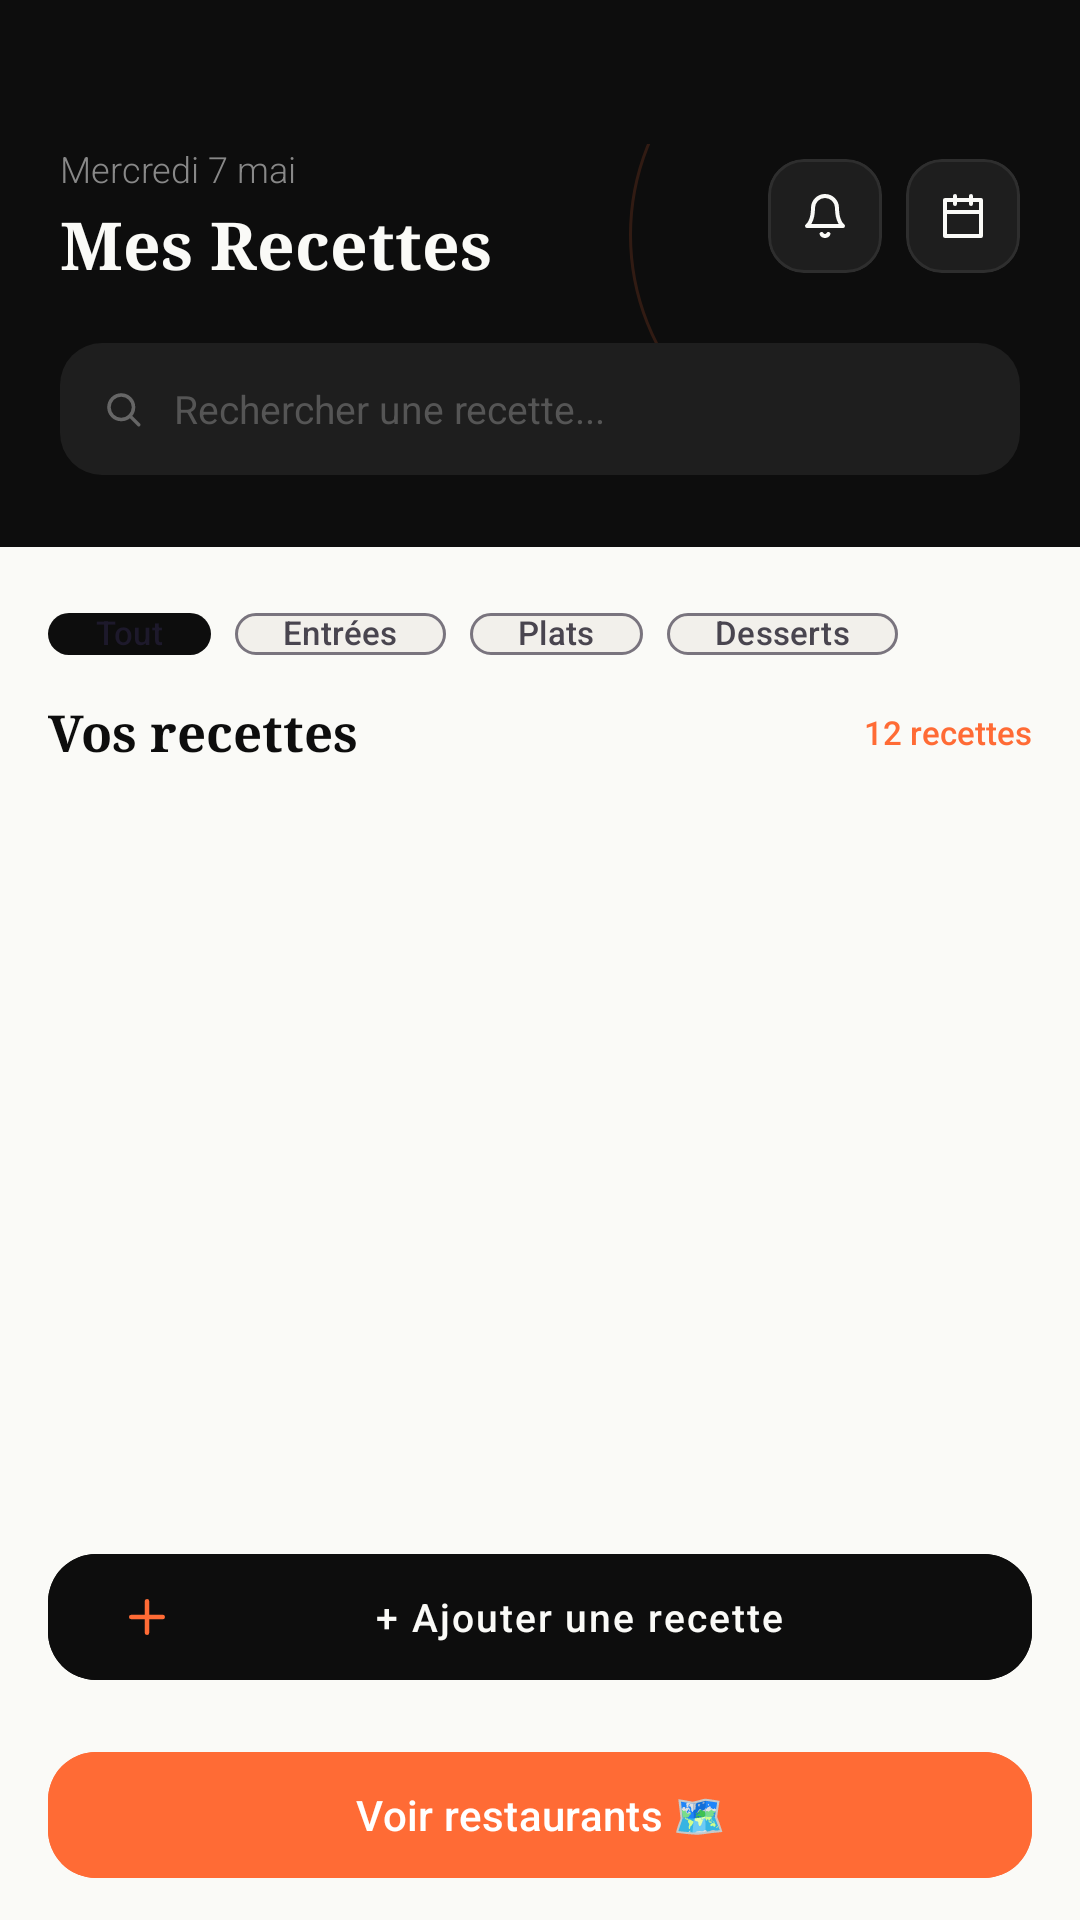

Icons on this 1080 x 1920 Android screen, each with the point to tap as (x=x, y=y):
bell: (x=825, y=216)
calendar: (x=963, y=216)
search: (x=124, y=410)
